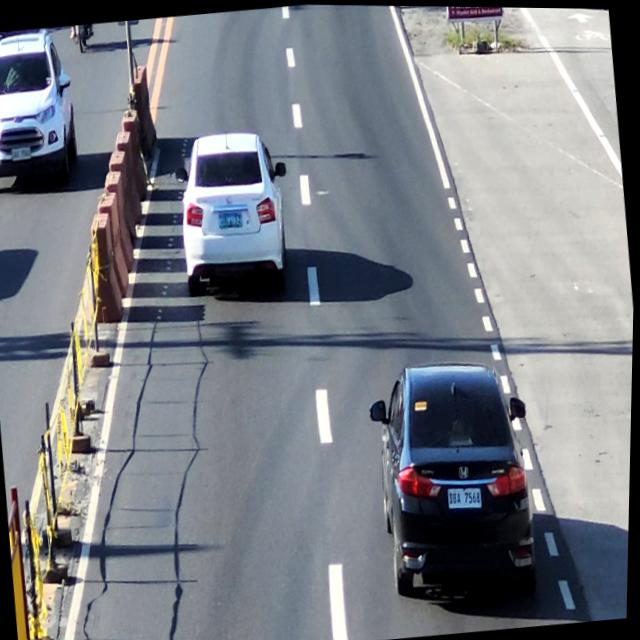Car: (376, 355, 542, 594), (175, 129, 287, 287)
License-Plate: (447, 476, 485, 514), (216, 206, 248, 235)
